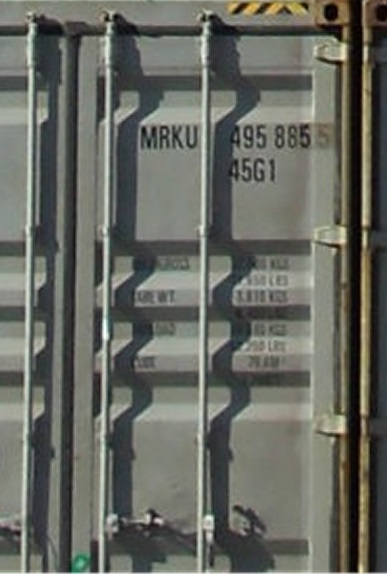container_door: (5, 4, 378, 569)
